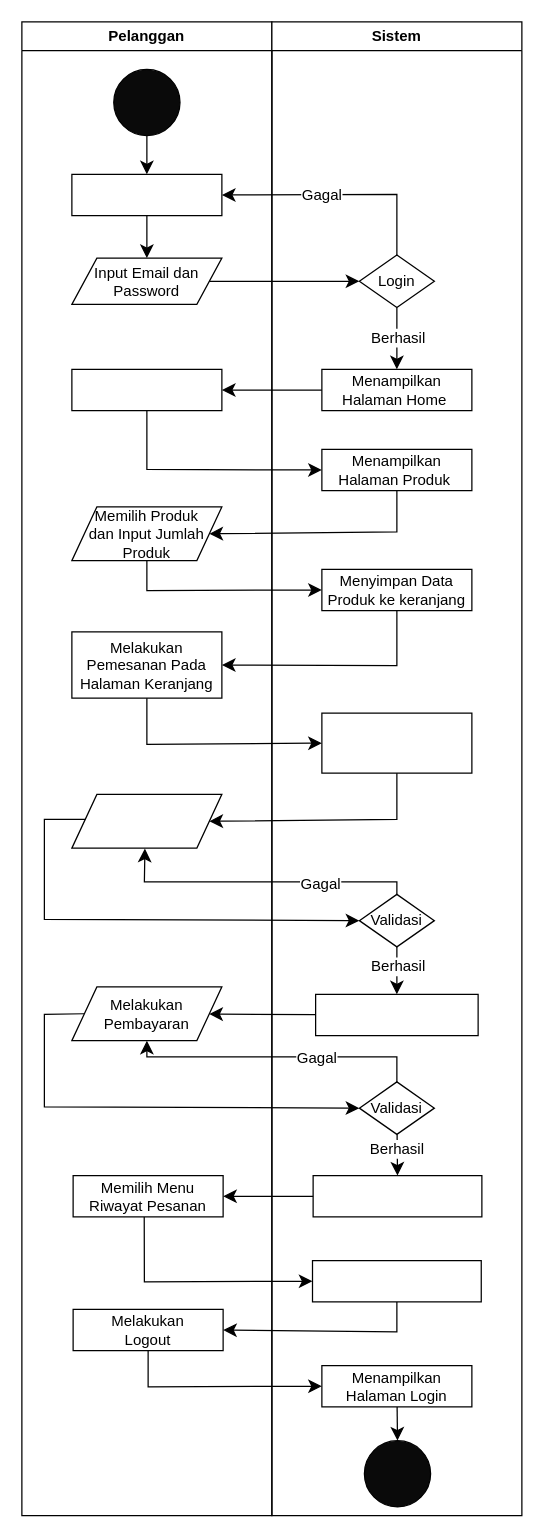
Some shapes in this 544 by 1538 pixel diagram are drawn without their labels. Here are the shapes that lost their labels. From the top down, the box of each, then its label:
(71, 173, 222, 216): Melakukan Login
(71, 368, 222, 411): Memilih Menu Produk
(321, 712, 472, 773): Menampilkan Halaman Form Pesanan
(71, 793, 222, 848): Input Form Data Pesanan
(314, 993, 478, 1036): Menampilkan Halaman Pembayaran
(312, 1174, 482, 1217): Menampilkan Notifikasi Pesanan Berhasil
(311, 1259, 481, 1302): Menampilkan Informasi Pesanan
